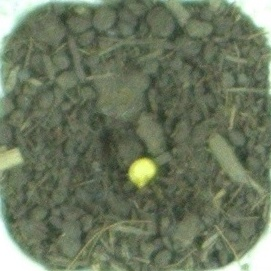chilli seed: (126, 156, 159, 190)
